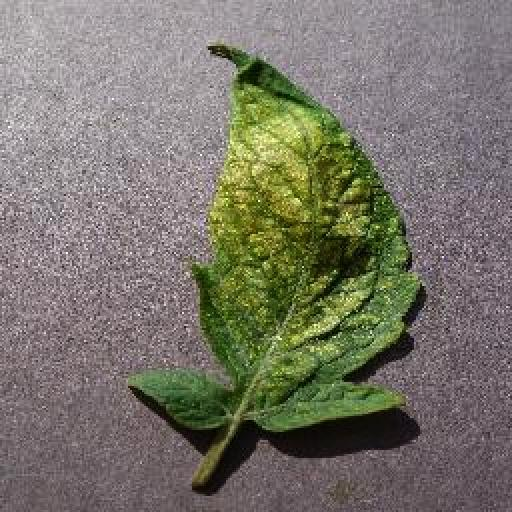disease_tomato: (123, 43, 417, 433)
